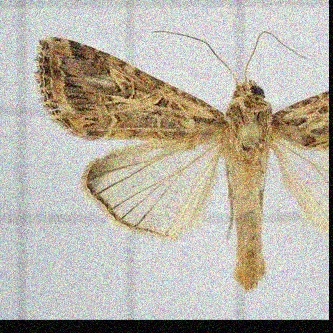Spodoptera litura: (34, 30, 328, 292)
